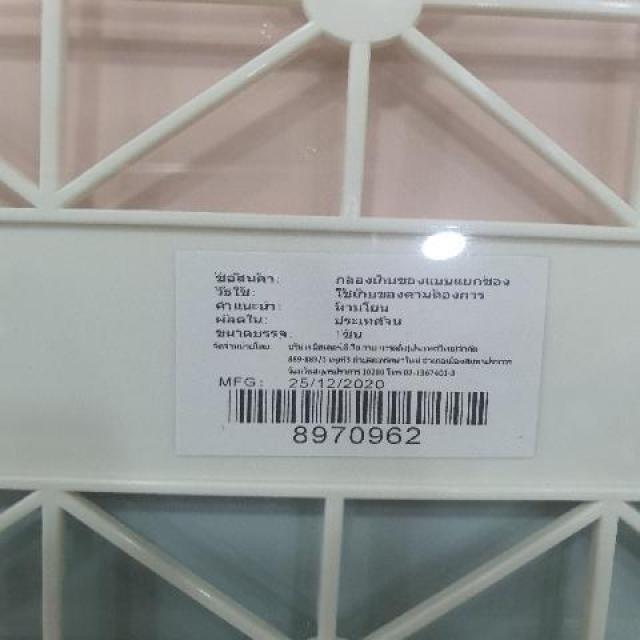Barcode: (213, 381, 507, 444)
